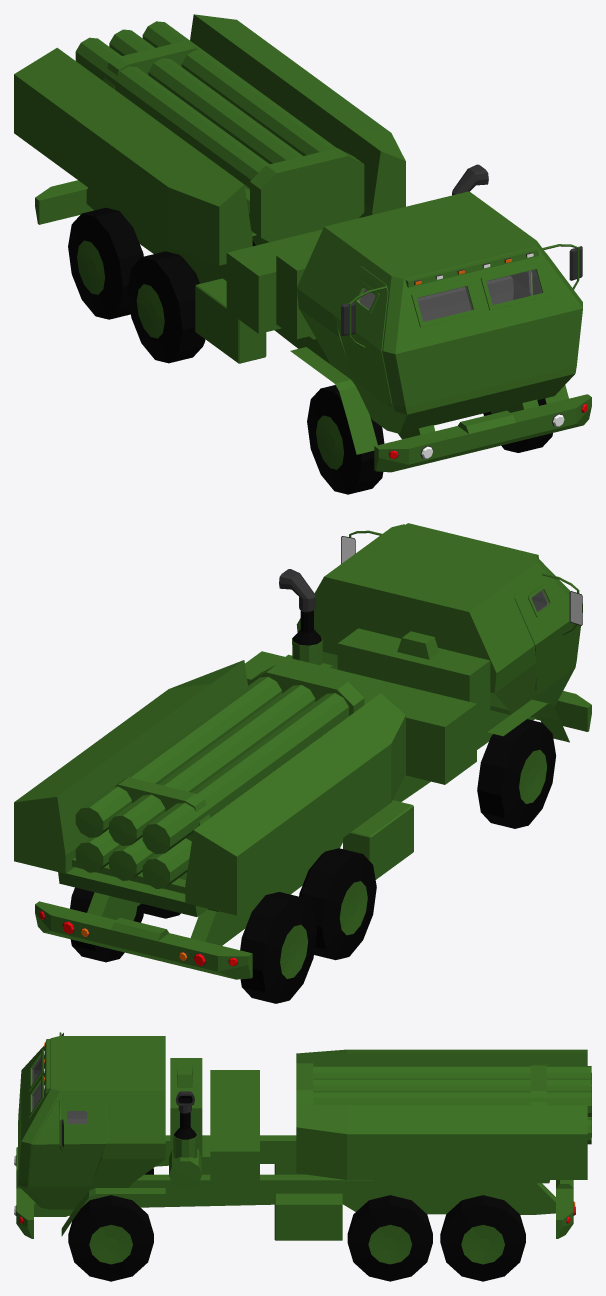
3 views of the same model, one above another, from view 1: azimuth 30°, elevation 25°; view 2: azimuth 150°, elevation 25°; view 3: azimuth 270°, elevation 25° (orthographic). The views are drawn at different scales.
Parts seen in each view (by area): view 1: Plane.015, Cube.006, Cylinder.021, Cylinder.022, Cylinder.026, Plane.016, Cylinder.024, Plane.019, Plane.017, Plane.018, Cylinder.027; view 2: Plane.015, Cube.006, Cylinder.021, Cylinder.024, Cylinder.026, Cylinder.022, Plane.016, Cylinder.023; view 3: Plane.015, Cube.006, Cylinder.021, Cylinder.025, Cylinder.023, Cylinder.027, Plane.018, Cube.007, Plane.016.
Boxes of the visible parts, x1=… form: Plane.015: x1=35, y1=164, x2=591, y2=472; Cube.006: x1=14, y1=14, x2=405, y2=265; Cylinder.021: x1=75, y1=21, x2=364, y2=242; Cylinder.022: x1=127, y1=251, x2=205, y2=363; Cylinder.026: x1=68, y1=207, x2=143, y2=319; Plane.016: x1=334, y1=266, x2=392, y2=406; Cylinder.024: x1=307, y1=385, x2=384, y2=494; Plane.019: x1=360, y1=269, x2=541, y2=321; Plane.017: x1=417, y1=270, x2=541, y2=320; Plane.018: x1=530, y1=244, x2=582, y2=301; Cylinder.027: x1=483, y1=398, x2=552, y2=452; Plane.015: x1=35, y1=523, x2=591, y2=979; Cube.006: x1=14, y1=660, x2=405, y2=916; Cylinder.021: x1=75, y1=664, x2=364, y2=888; Cylinder.024: x1=477, y1=719, x2=555, y2=828; Cylinder.026: x1=240, y1=892, x2=316, y2=1003; Cylinder.022: x1=299, y1=848, x2=376, y2=960; Plane.016: x1=514, y1=573, x2=582, y2=692; Cylinder.023: x1=70, y1=887, x2=144, y2=962; Plane.015: x1=14, y1=1036, x2=575, y2=1240; Cube.006: x1=296, y1=1049, x2=587, y2=1179; Cylinder.021: x1=296, y1=1063, x2=591, y2=1144; Cylinder.025: x1=347, y1=1195, x2=432, y2=1281; Cylinder.023: x1=440, y1=1195, x2=525, y2=1281; Cylinder.027: x1=68, y1=1195, x2=153, y2=1281; Plane.018: x1=29, y1=1099, x2=105, y2=1186; Cube.007: x1=374, y1=1180, x2=549, y2=1183; Plane.016: x1=34, y1=1032, x2=87, y2=1118.
Bounding box in the file's own units: 338 × 323 × 900.
